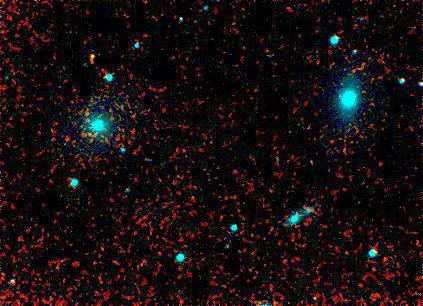star: (79, 43, 109, 73)
